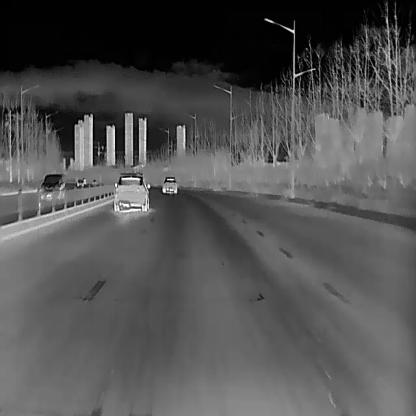car: (113, 171, 150, 211), (36, 172, 66, 202), (161, 174, 177, 192), (76, 177, 83, 187)
